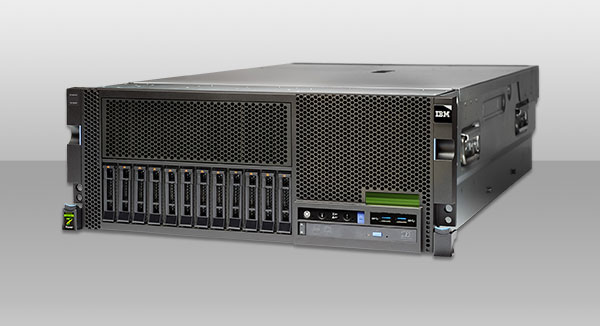ibm-server: (49, 53, 546, 264)
